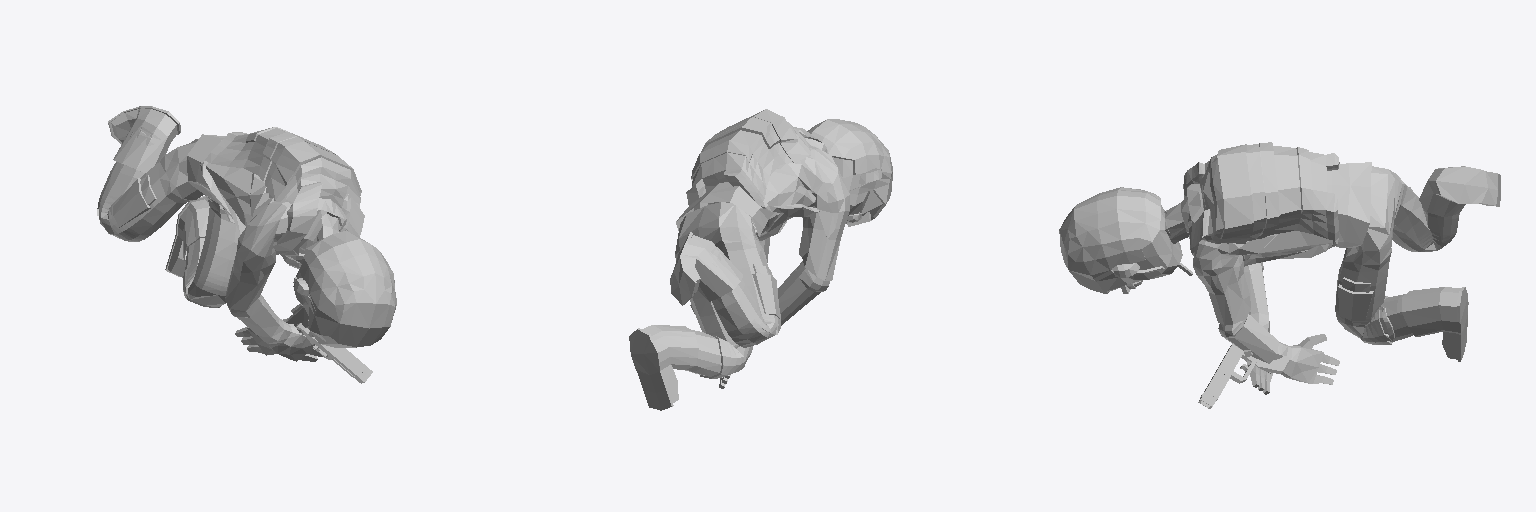
File: frame_0021.obj
The picture shows the model from 3 angles: view 1: azimuth 30°, elevation 25°; view 2: azimuth 150°, elevation 25°; view 3: azimuth 270°, elevation 25°; orthographic projection.
Visible parts, largest first — view 1: Body, Gun; view 2: Body; view 3: Body, Gun.
Boxes of the visible parts, box(x1,y1,x2,y2) form: Body: box(97, 106, 396, 361); Gun: box(296, 323, 372, 383); Body: box(629, 109, 892, 410); Body: box(1059, 142, 1500, 394); Gun: box(1198, 344, 1289, 408).
Bounding box in the file's own units: 1.41 × 2.03 × 3.4.